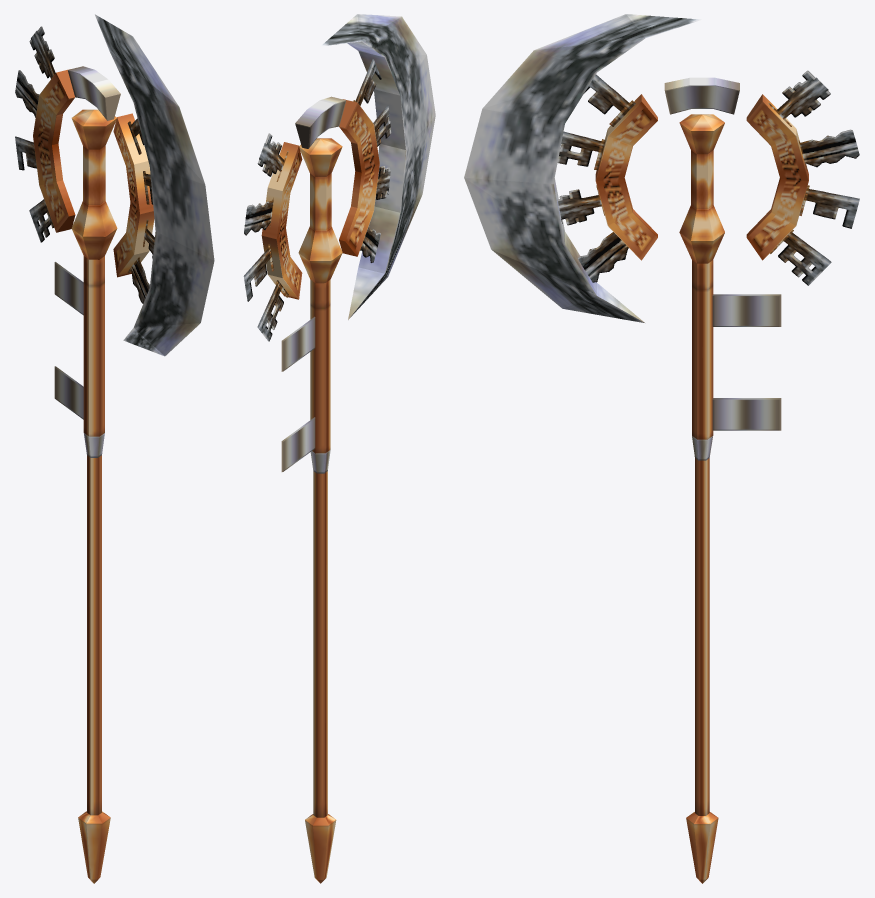
The model's file is heavyaxeman06_1.obj.
The picture shows the model from 3 angles, left to right: view 1: azimuth 30°, elevation 25°; view 2: azimuth 150°, elevation 25°; view 3: azimuth 270°, elevation 25°; orthographic projection. The views are drawn at different scales.
Parts seen in each view (by area): view 1: heavyaxeman06_1; view 2: heavyaxeman06_1; view 3: heavyaxeman06_1.
Part boxes in pixels (x1,y1,x2,y2): heavyaxeman06_1: (15,14,214,883); heavyaxeman06_1: (243,14,435,883); heavyaxeman06_1: (464,14,859,883).
Size of the model in its own units: 0.1113 by 2.7 by 1.12.
